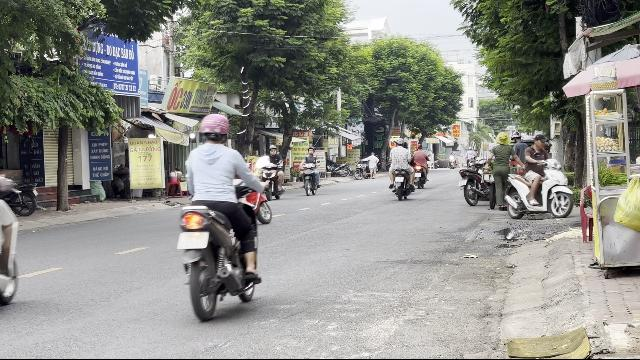helmet: (197, 112, 230, 144)
licenseplate: (178, 232, 208, 248)
motorcyclist: (174, 110, 266, 318), (499, 129, 575, 221)
nohelmet: (534, 134, 546, 148)
